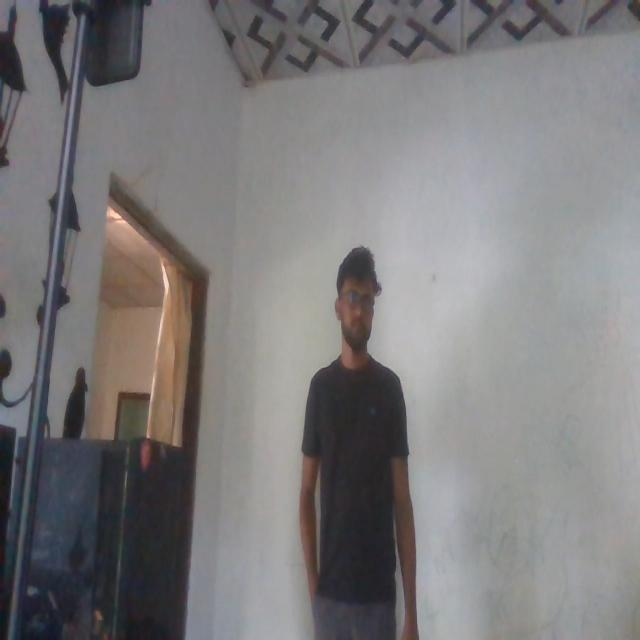Person: (299, 227, 415, 640)
